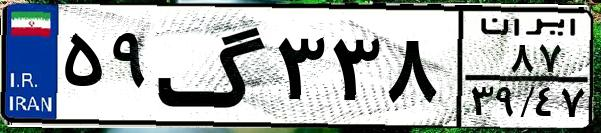3: (270, 28, 330, 110), (330, 28, 385, 110), (470, 70, 495, 125)
4: (535, 70, 560, 125)
5: (57, 26, 110, 100)
7: (560, 70, 590, 125), (537, 27, 568, 80)
8: (385, 28, 445, 110), (508, 27, 537, 80)
9: (110, 28, 156, 98), (495, 70, 520, 125)
گ: (156, 12, 270, 120)
